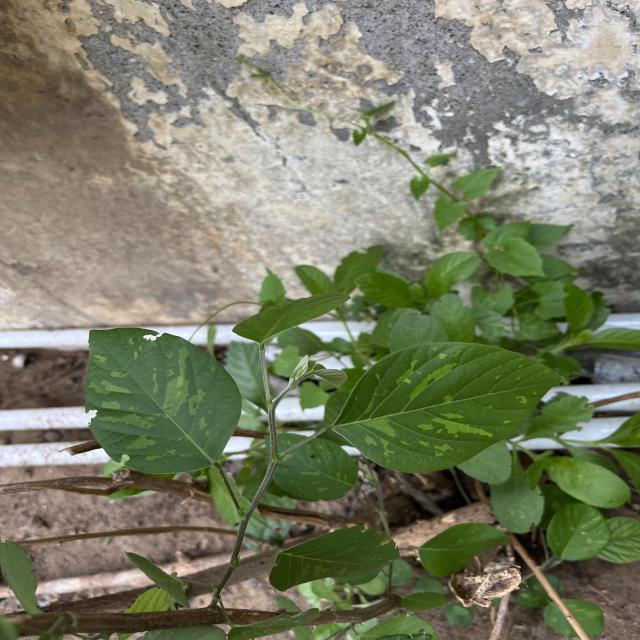Desmodium gangeticum: (331, 340, 567, 476), (78, 324, 246, 476)
